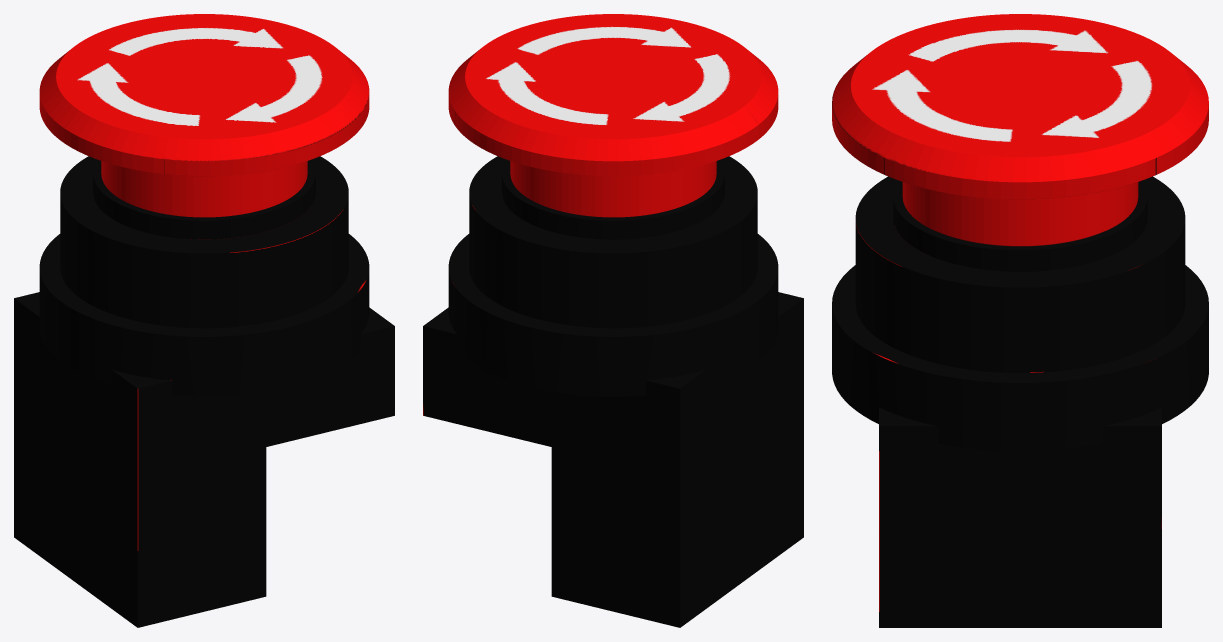
File: emergency_switch.dae
The picture shows the model from 3 angles, left to right: view 1: azimuth 30°, elevation 25°; view 2: azimuth 150°, elevation 25°; view 3: azimuth 270°, elevation 25°; orthographic projection. The views are drawn at different scales.
Visible parts, largest first — view 1: Emergency_Switch; view 2: Emergency_Switch; view 3: Emergency_Switch.
Part boxes in pixels (x1,y1,x2,y2): Emergency_Switch: (14, 14, 394, 627); Emergency_Switch: (423, 14, 803, 627); Emergency_Switch: (832, 14, 1208, 627).
Bounding box in the file's own units: 0.04 × 0.04 × 0.0635.
Materials: 1 (1 with a texture image).
